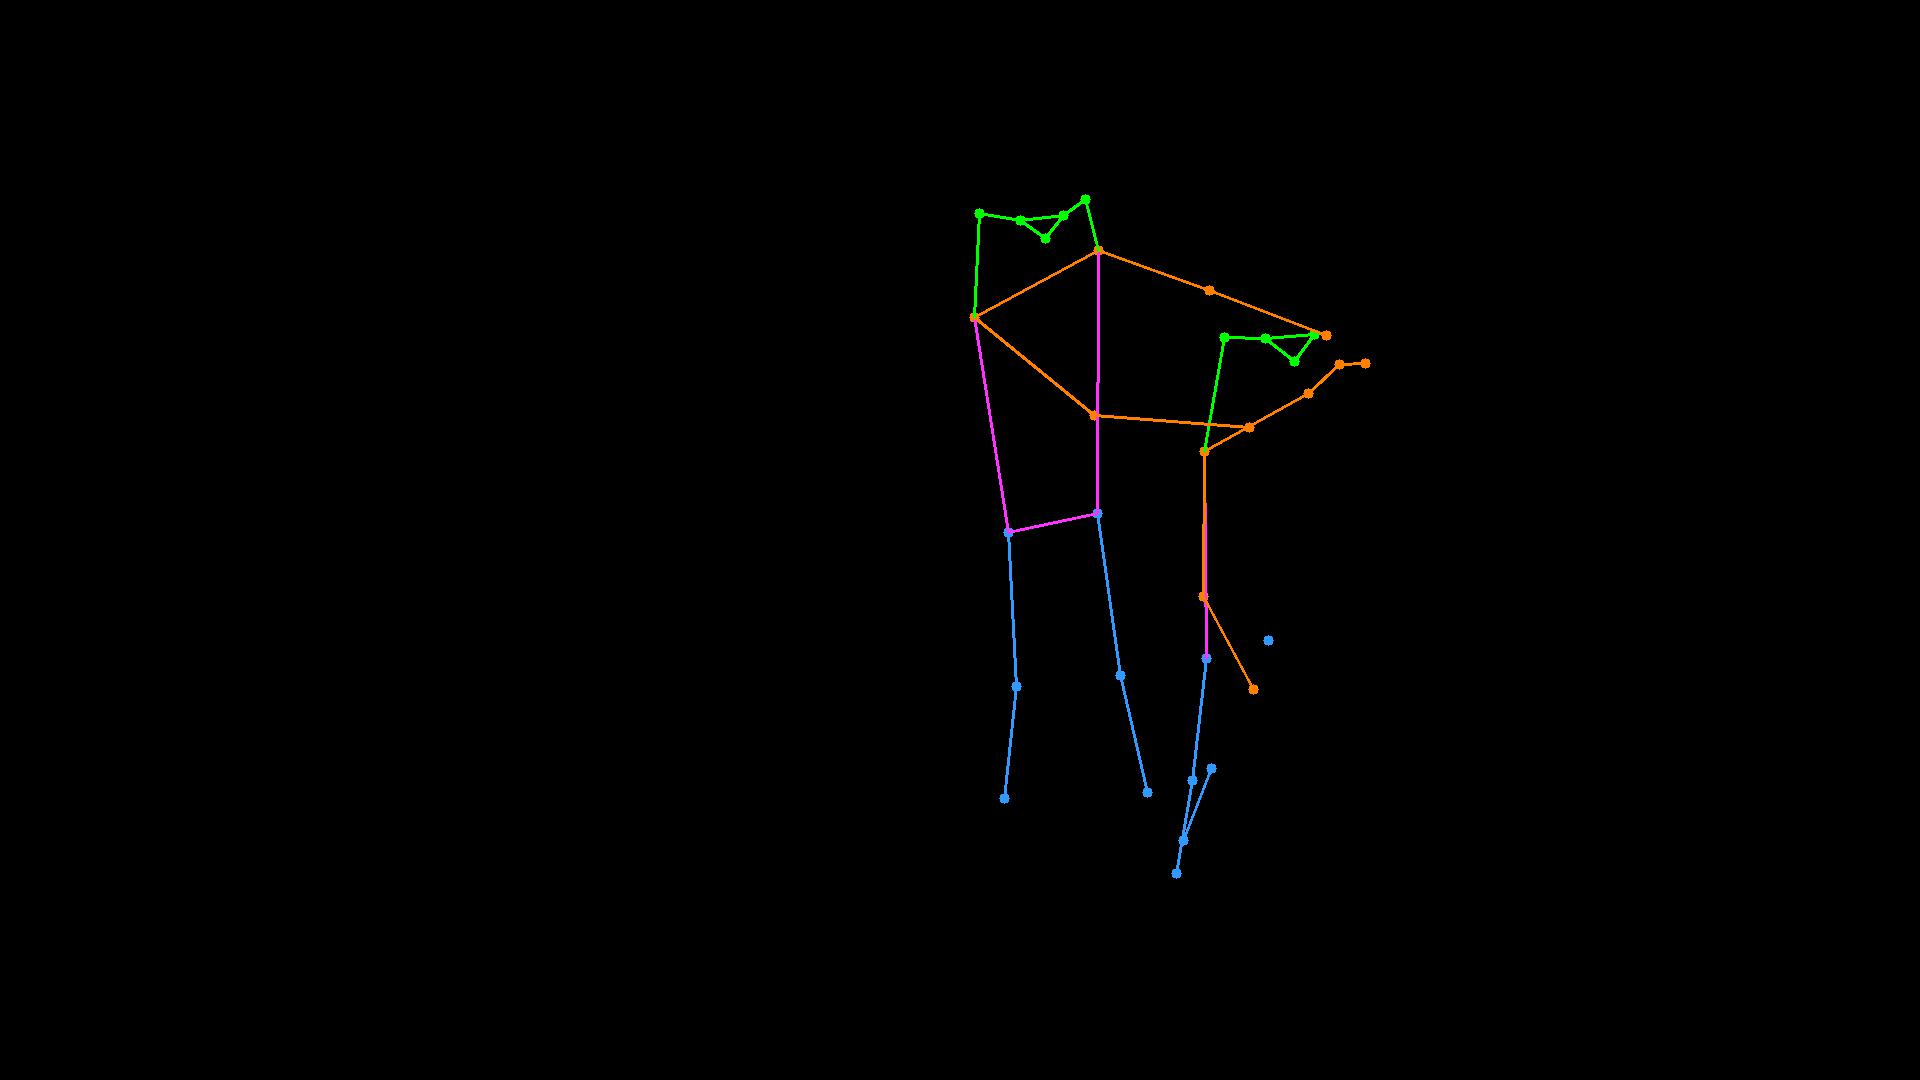normal: (880, 144, 1408, 935)
